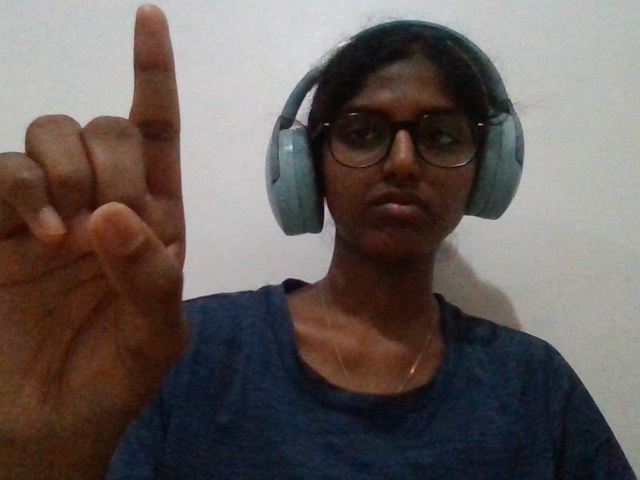D: (2, 4, 195, 480)
